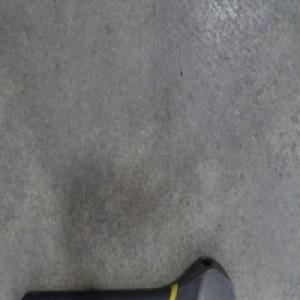AdjustableWrench: (23, 256, 234, 300)
